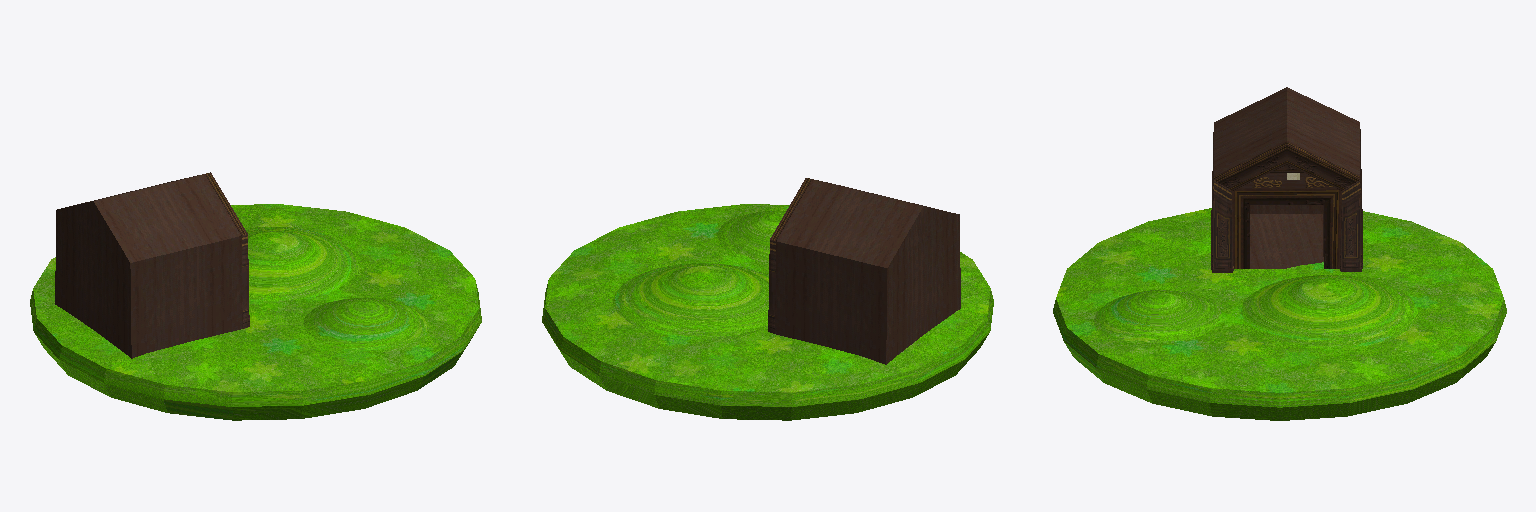
The picture shows the model from 3 angles: view 1: azimuth 30°, elevation 25°; view 2: azimuth 150°, elevation 25°; view 3: azimuth 270°, elevation 25°; orthographic projection.
Visible parts, largest first — view 1: mesh-2.001_meshId2_name.010; view 2: mesh-2.001_meshId2_name.010; view 3: mesh-2.001_meshId2_name.010.
Part boxes in pixels (left/top/right/bottom): mesh-2.001_meshId2_name.010: left=30, top=172, right=481, bottom=420; mesh-2.001_meshId2_name.010: left=542, top=178, right=993, bottom=420; mesh-2.001_meshId2_name.010: left=1053, top=87, right=1506, bottom=420.
Size of the model in its own units: 2084 by 922 by 2084.
Materials: 9 (6 with a texture image).